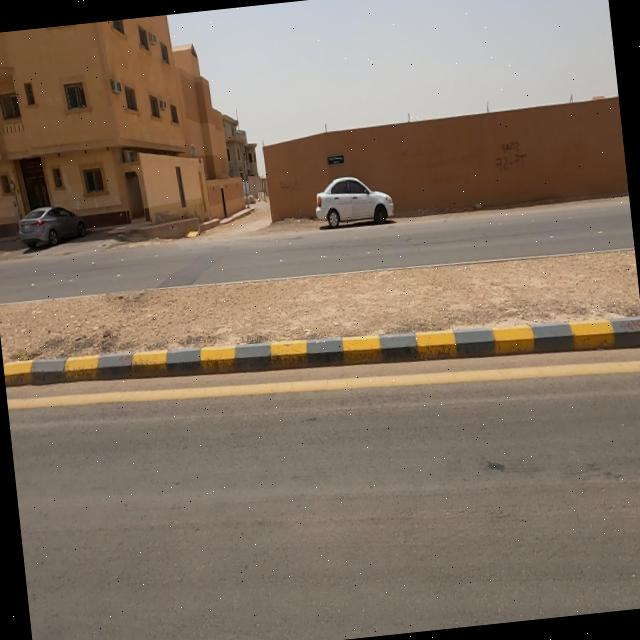Graffiti: (494, 138, 529, 175), (279, 176, 301, 193)
